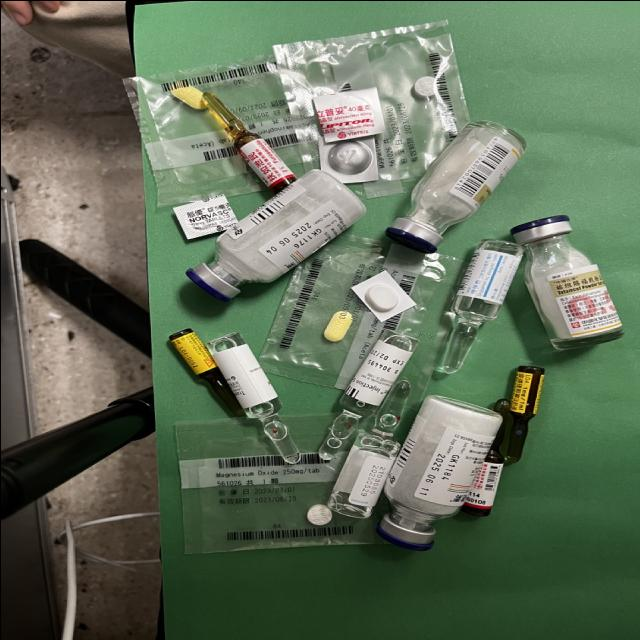Ampoules: (318, 330, 417, 460), (206, 332, 299, 464), (435, 238, 522, 373), (327, 378, 409, 518), (202, 91, 295, 191), (169, 328, 242, 414), (460, 398, 511, 514), (505, 365, 543, 463)
Vials: (185, 168, 364, 300), (375, 394, 501, 550), (385, 121, 524, 251), (509, 214, 621, 349)
